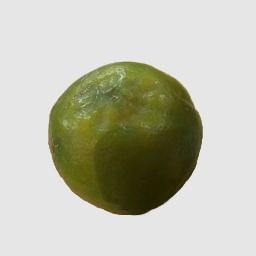Ripe: (46, 61, 203, 217)
